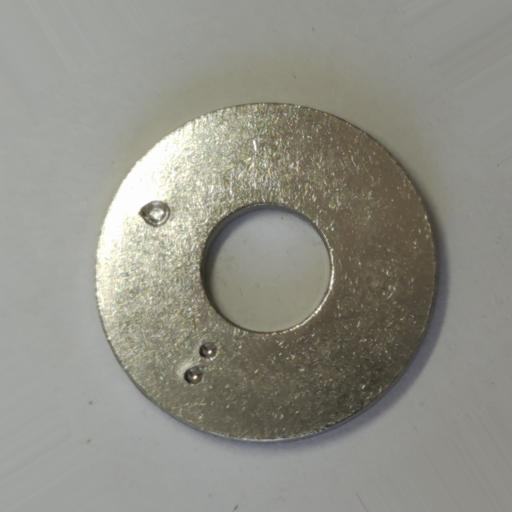circular_cavity: (139, 200, 170, 226), (184, 366, 206, 384), (200, 343, 217, 359)
